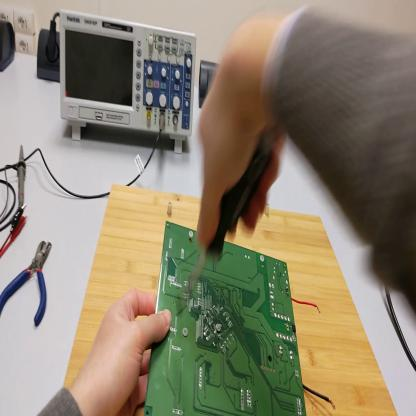hand: (194, 29, 287, 252), (79, 289, 168, 414)
low voltage board: (143, 219, 336, 415)
oscilloscope: (61, 9, 197, 156)
oscilloscope probe tip: (19, 144, 26, 209)
pliers: (1, 242, 54, 329)
screwdriver-: (182, 134, 276, 326)
socket: (38, 27, 61, 83), (2, 21, 17, 77)
working area: (64, 185, 397, 413)
